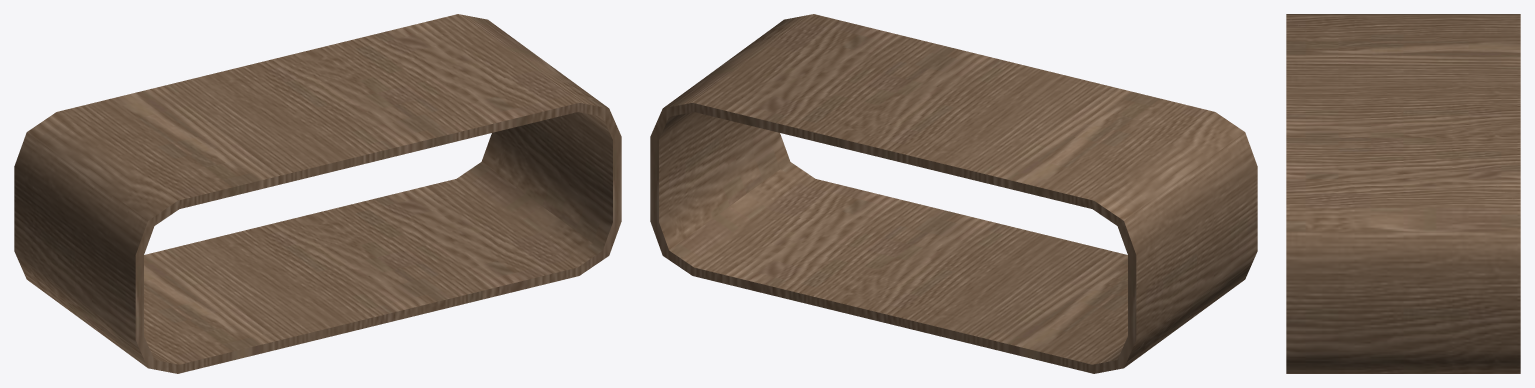
The model's file is Table_30.glb.
The picture shows the model from 3 angles, left to right: view 1: azimuth 30°, elevation 25°; view 2: azimuth 150°, elevation 25°; view 3: azimuth 270°, elevation 25°; orthographic projection. The views are drawn at different scales.
Parts seen in each view (by area): view 1: Table_30; view 2: Table_30; view 3: Table_30.
Part boxes in pixels (x1,y1,x2,y2): Table_30: [14, 14, 621, 373]; Table_30: [650, 14, 1257, 373]; Table_30: [1286, 14, 1520, 373].
Bounding box in the file's own units: 1.85 × 0.6309 × 0.8006.
Materials: 1 (1 with a texture image).
